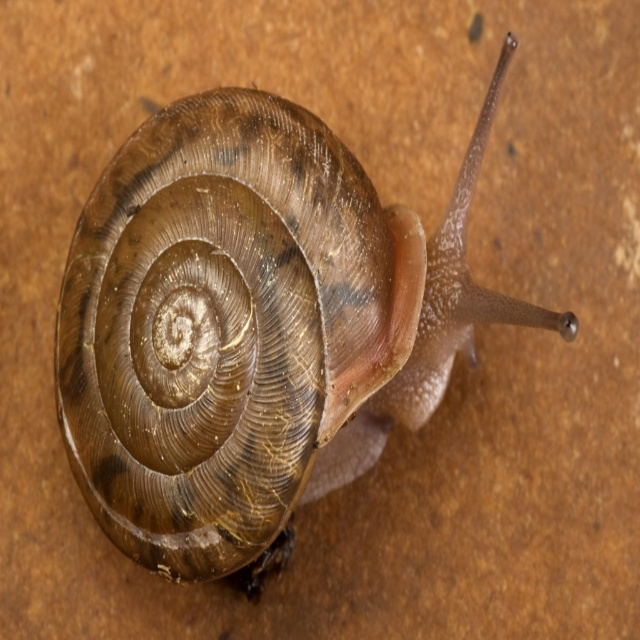Snail: (54, 33, 580, 605)
